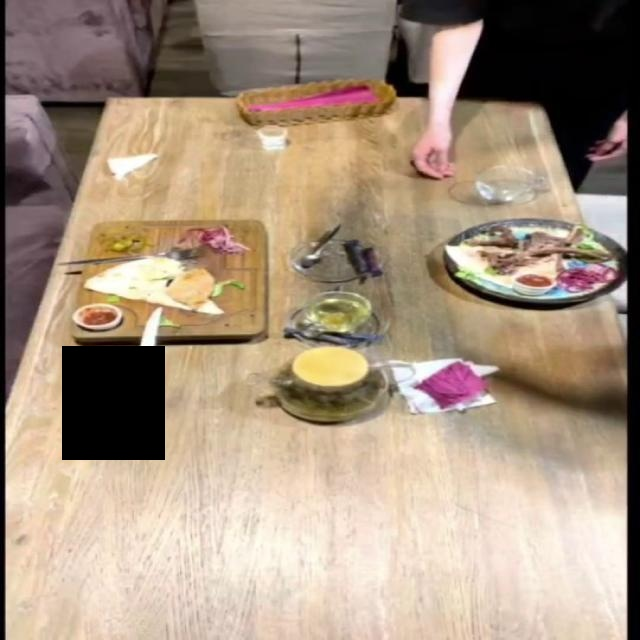meat: (428, 188, 617, 339), (69, 217, 268, 342)
tea: (268, 345, 387, 423)
